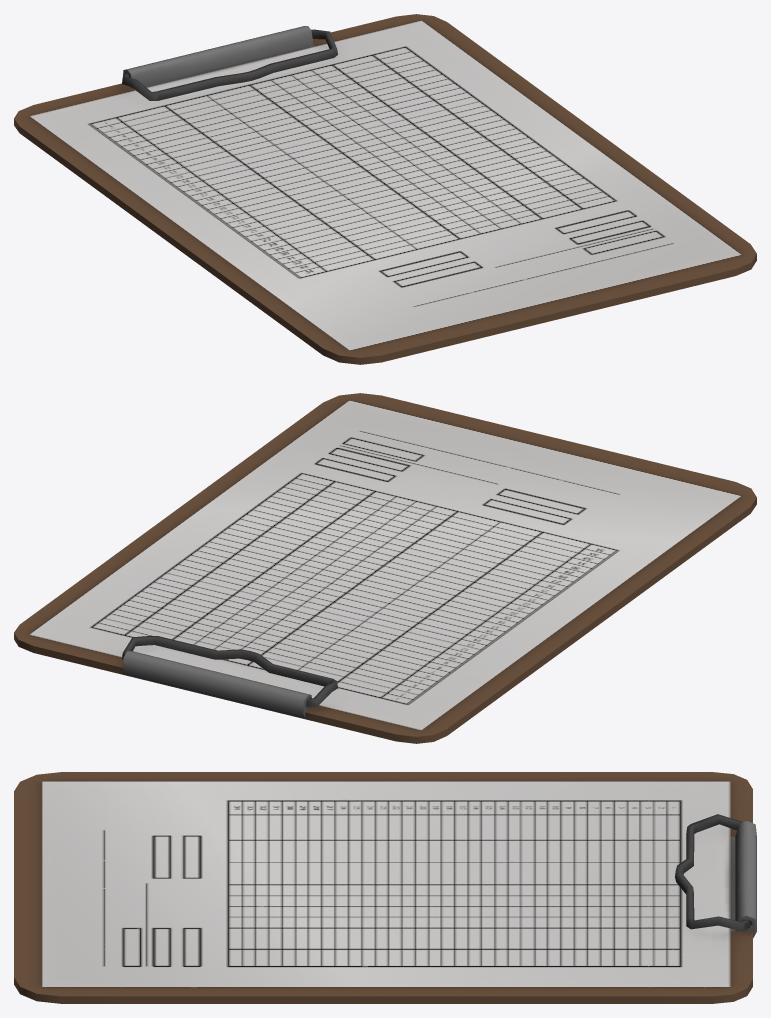
The model's file is paper.fbx.
3 views of the same model, one above another, from view 1: azimuth 30°, elevation 25°; view 2: azimuth 150°, elevation 25°; view 3: azimuth 270°, elevation 25° (orthographic). The views are drawn at different scales.
Visible parts, largest first — view 1: paper; view 2: paper; view 3: paper.
Part boxes in pixels (<box>): paper: <box>14,14,756,364</box>; paper: <box>14,393,756,743</box>; paper: <box>14,772,756,1003</box>.
Bounding box in the file's own units: 2.25 × 0.1206 × 3.15.
